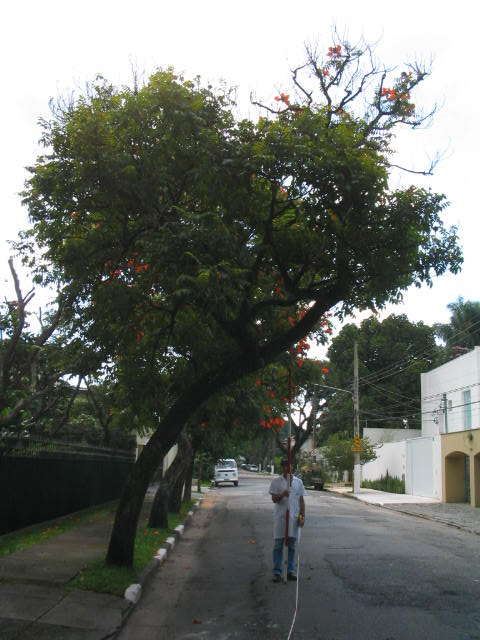crown: (11, 21, 467, 376)
stem: (95, 400, 166, 568), (147, 435, 196, 532)
stick: (277, 365, 297, 585)
tree: (8, 19, 469, 569)
